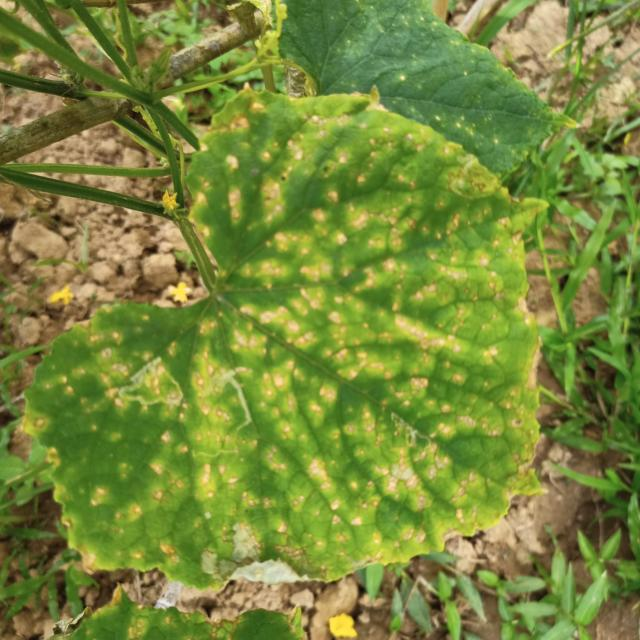disease_cucumber: (49, 104, 542, 580)
